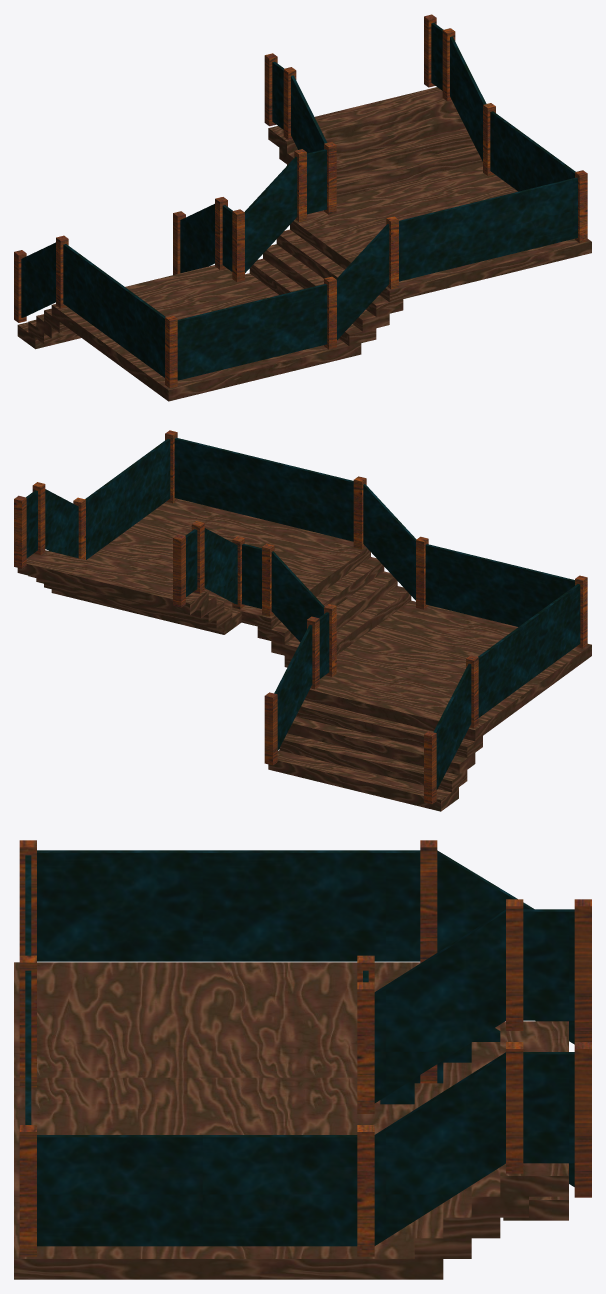
The model's file is glass-curly-staircase2.obj.
The picture shows the model from 3 angles, top to bottom: view 1: azimuth 30°, elevation 25°; view 2: azimuth 150°, elevation 25°; view 3: azimuth 270°, elevation 25°; orthographic projection. The views are drawn at different scales.
Parts seen in each view (by area): view 1: entity0_brush3, entity0_brush16, entity0_brush31, entity0_brush41, entity0_brush39, entity0_brush7, entity0_brush27, entity0_brush14, entity0_brush11, entity0_brush4, entity0_brush6, entity0_brush5 (+29 smaller); view 2: entity0_brush31, entity0_brush3, entity0_brush16, entity0_brush41, entity0_brush39, entity0_brush27, entity0_brush7, entity0_brush43, entity0_brush11, entity0_brush28, entity0_brush29, entity0_brush30 (+31 smaller); view 3: entity0_brush39, entity0_brush31, entity0_brush27, entity0_brush3, entity0_brush19, entity0_brush24, entity0_brush21, entity0_brush25, entity0_brush34, entity0_brush7, entity0_brush8, entity0_brush6 (+17 smaller).
Boxes of the visible parts, left/top/right/bottom form: entity0_brush3: left=290, top=171, right=591, bottom=302; entity0_brush16: left=399, top=177, right=577, bottom=281; entity0_brush31: left=51, top=265, right=341, bottom=401; entity0_brush41: left=177, top=284, right=327, bottom=380; entity0_brush39: left=63, top=244, right=165, bottom=377; entity0_brush7: left=268, top=87, right=457, bottom=152; entity0_brush27: left=490, top=111, right=575, bottom=191; entity0_brush14: left=244, top=156, right=297, bottom=272; entity0_brush11: left=336, top=224, right=389, bottom=339; entity0_brush4: left=336, top=145, right=482, bottom=197; entity0_brush6: left=279, top=111, right=465, bottom=164; entity0_brush5: left=287, top=128, right=473, bottom=178; entity0_brush31: left=304, top=605, right=591, bottom=741; entity0_brush3: left=86, top=499, right=370, bottom=629; entity0_brush16: left=174, top=437, right=353, bottom=541; entity0_brush41: left=425, top=544, right=574, bottom=626; entity0_brush39: left=478, top=584, right=580, bottom=717; entity0_brush27: left=85, top=438, right=170, bottom=559; entity0_brush7: left=17, top=550, right=208, bottom=614; entity0_brush43: left=268, top=750, right=458, bottom=811; entity0_brush11: left=363, top=484, right=416, bottom=600; entity0_brush28: left=279, top=733, right=467, bottom=792; entity0_brush29: left=287, top=716, right=475, bottom=775; entity0_brush30: left=296, top=700, right=482, bottom=758; entity0_brush39: left=37, top=850, right=420, bottom=961; entity0_brush31: left=14, top=962, right=420, bottom=1077; entity0_brush27: left=37, top=1135, right=357, bottom=1246; entity0_brush3: left=14, top=1077, right=380, bottom=1279; entity0_brush19: left=374, top=909, right=505, bottom=1103; entity0_brush24: left=374, top=1052, right=505, bottom=1245; entity0_brush21: left=523, top=909, right=574, bottom=1020; entity0_brush25: left=523, top=1052, right=574, bottom=1163; entity0_brush34: left=437, top=850, right=574, bottom=1044; entity0_brush7: left=500, top=1021, right=568, bottom=1196; entity0_brush8: left=380, top=1104, right=443, bottom=1279; entity0_brush6: left=471, top=1042, right=528, bottom=1217.
Size of the model in its own units: 314 by 152 by 202.
